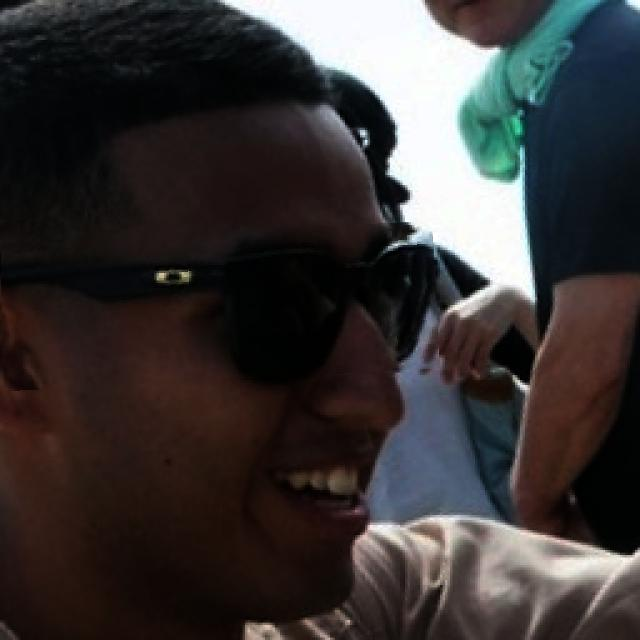glasses: (0, 226, 438, 385)
